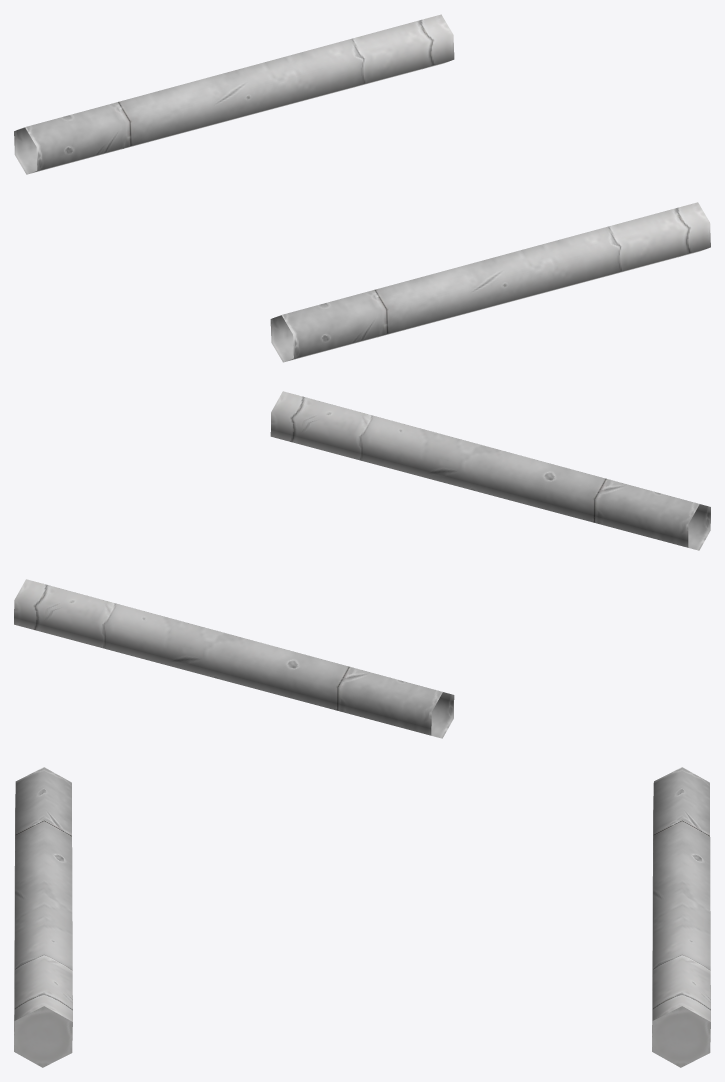
Rendered from Mat_BarbedWire.fbx.
The picture shows the model from 3 angles, top to bottom: view 1: azimuth 30°, elevation 25°; view 2: azimuth 150°, elevation 25°; view 3: azimuth 270°, elevation 25°; orthographic projection. The views are drawn at different scales.
Visible parts, largest first — view 1: Mat_BarbedWire; view 2: Mat_BarbedWire; view 3: Mat_BarbedWire.
Part boxes in pixels (x1,y1,x2,y2): Mat_BarbedWire: (14,14,710,362); Mat_BarbedWire: (14,391,710,738); Mat_BarbedWire: (14,767,710,1067).
Size of the model in its own units: 0.7463 by 0.0999 by 0.8674.
Materials: 1 (1 with a texture image).
